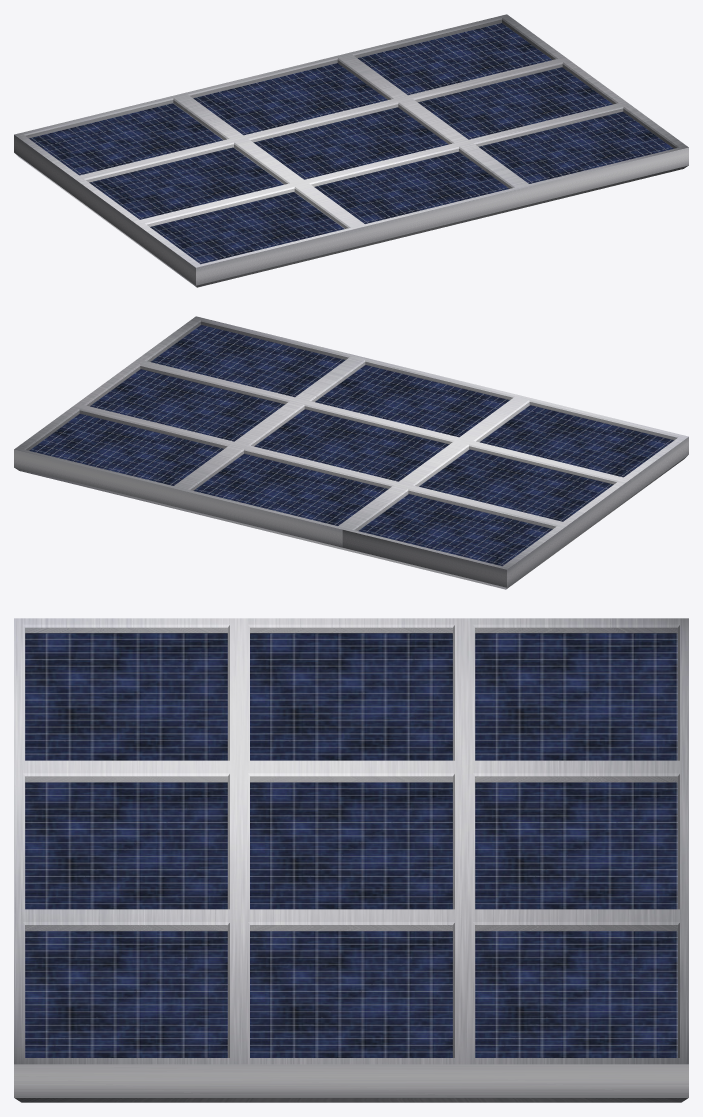
File: solarPanelTextured.fbx
3 renders of one model, top to bottom at view 1: azimuth 30°, elevation 25°; view 2: azimuth 150°, elevation 25°; view 3: azimuth 270°, elevation 25°, orthographic. The views are drawn at different scales.
Parts seen in each view (by area): view 1: solarPanel; view 2: solarPanel; view 3: solarPanel.
Part boxes in pixels (box(x1,y1,x2,y2)): solarPanel: box(14, 14, 688, 287); solarPanel: box(14, 316, 688, 589); solarPanel: box(14, 618, 688, 1102).
Bounding box in the file's own units: 7.45 × 0.3203 × 4.76.
1 material, 1 textured.
